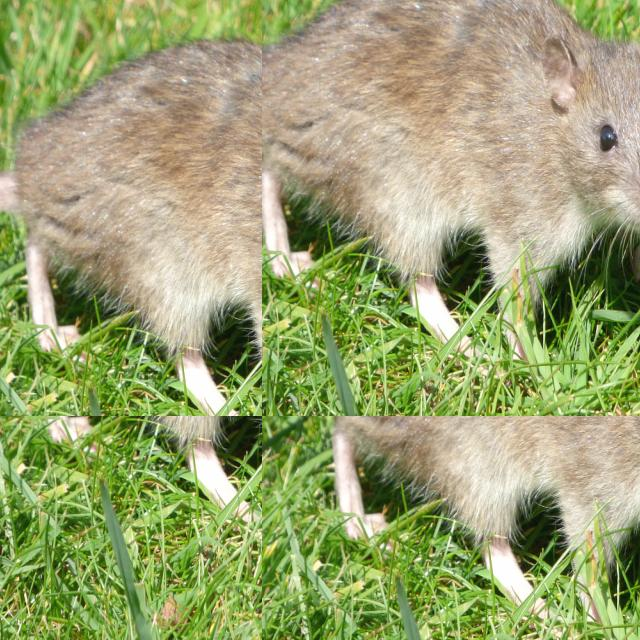rat: (320, 416, 640, 558), (262, 56, 292, 143)
